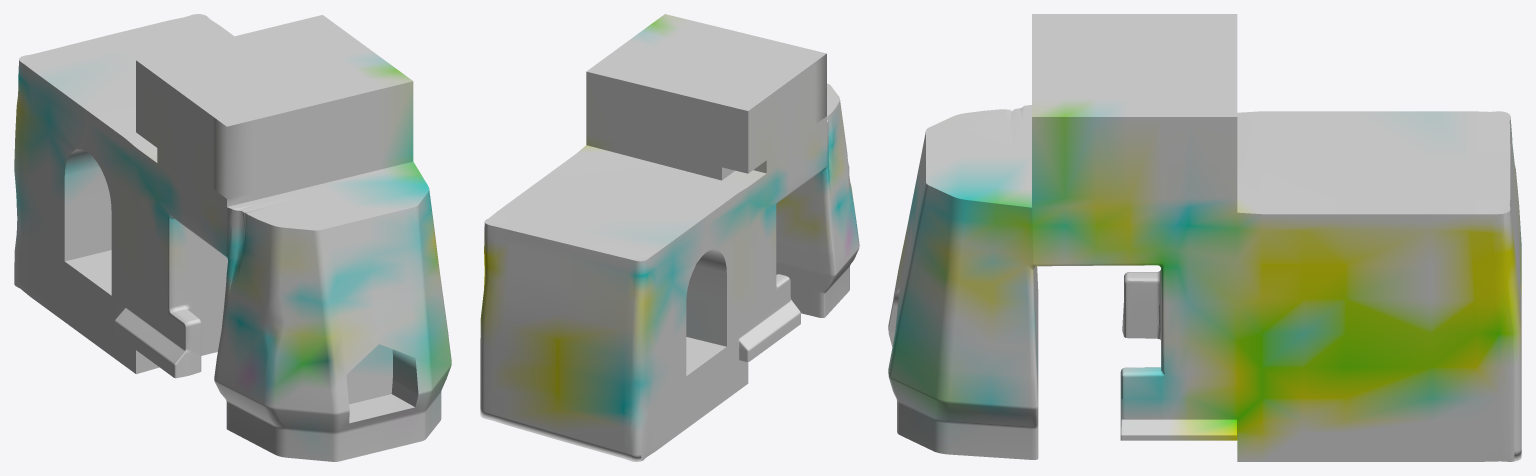
Rendered from SM_BuildingBase.fbx.
3 renders of one model, left to right at view 1: azimuth 30°, elevation 25°; view 2: azimuth 150°, elevation 25°; view 3: azimuth 270°, elevation 25°, orthographic. The views are drawn at different scales.
Parts seen in each view (by area): view 1: SM_BuildingBase_LOD0; view 2: SM_BuildingBase_LOD0; view 3: SM_BuildingBase_LOD0.
Boxes of the visible parts, bbox=[...] form: SM_BuildingBase_LOD0: bbox=[14, 14, 451, 461]; SM_BuildingBase_LOD0: bbox=[480, 14, 859, 461]; SM_BuildingBase_LOD0: bbox=[888, 14, 1521, 461].
Bounding box in the file's own units: 470 × 1065 × 659.
